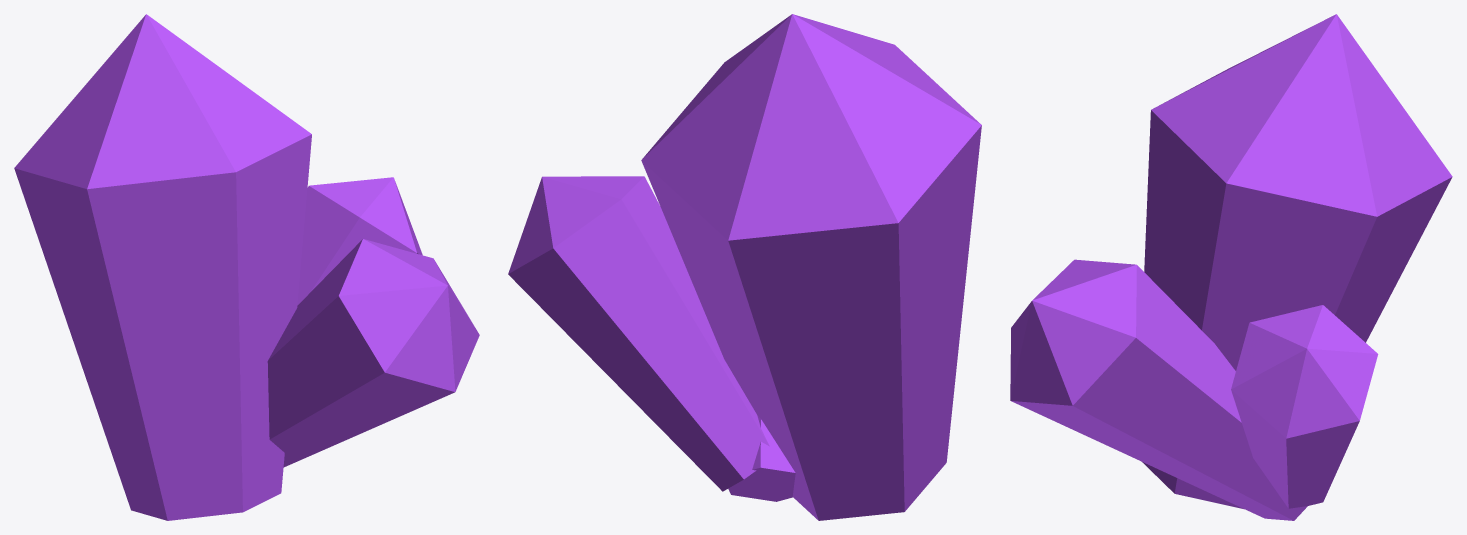
File: Gems1_Env.fbx
3 renders of one model, left to right at view 1: azimuth 30°, elevation 25°; view 2: azimuth 150°, elevation 25°; view 3: azimuth 270°, elevation 25°, orthographic. The views are drawn at different scales.
Visible parts, largest first — view 1: Gems1_Env; view 2: Gems1_Env; view 3: Gems1_Env.
Part boxes in pixels (left/top/right/bottom): Gems1_Env: left=14, top=14, right=479, bottom=520; Gems1_Env: left=508, top=14, right=981, bottom=520; Gems1_Env: left=1010, top=14, right=1452, bottom=520.
Size of the model in its own units: 2.73 by 2.77 by 3.32.
